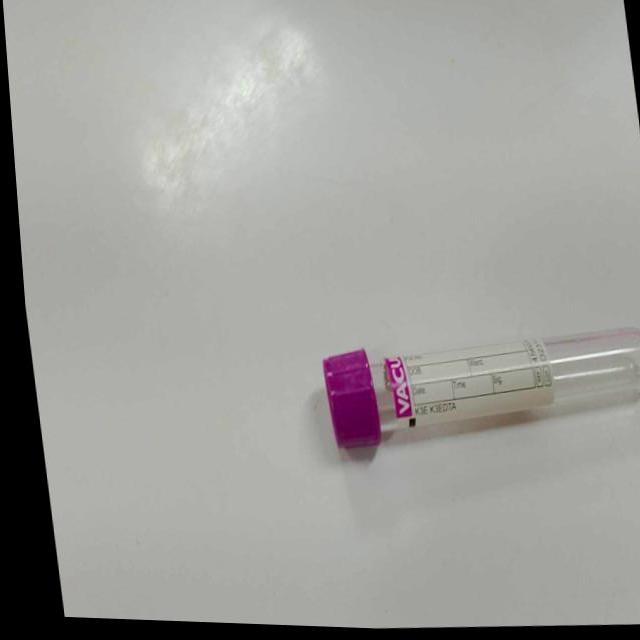Sharps: (322, 325, 640, 450)
